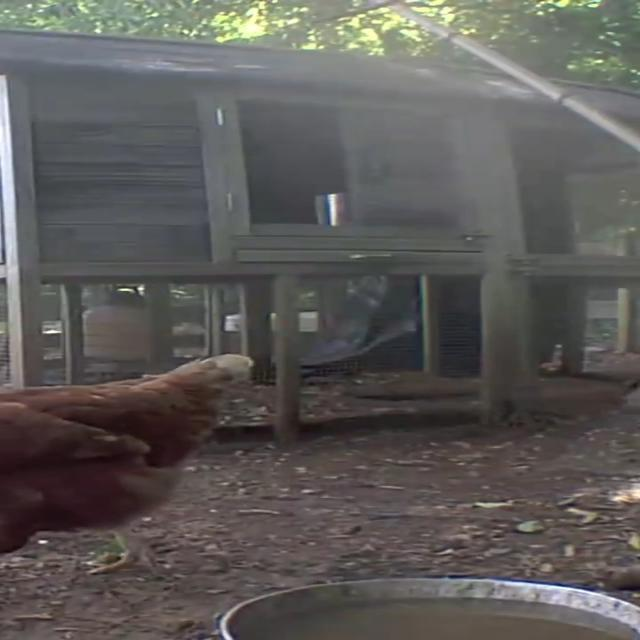walking: (0, 326, 276, 572)
